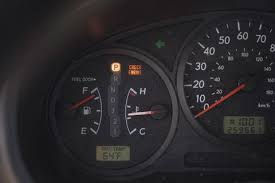Digital_Meter: (224, 115, 267, 136)
